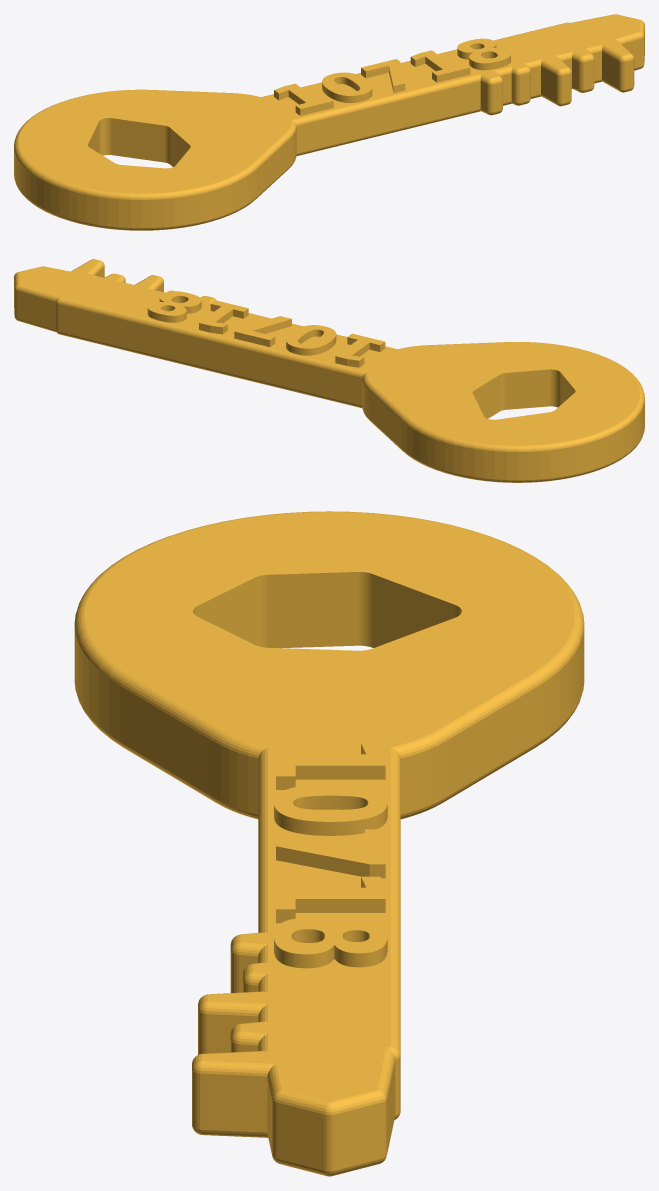
Rendered from 10718-golden-key-v1.glb.
3 views of the same model, one above another, from view 1: azimuth 30°, elevation 25°; view 2: azimuth 150°, elevation 25°; view 3: azimuth 270°, elevation 25° (orthographic). The views are drawn at different scales.
Parts seen in each view (by area): view 1: 10718 Golden Key v1; view 2: 10718 Golden Key v1; view 3: 10718 Golden Key v1.
Boxes of the visible parts, bbox=[...] form: 10718 Golden Key v1: bbox=[14, 14, 644, 230]; 10718 Golden Key v1: bbox=[14, 259, 644, 482]; 10718 Golden Key v1: bbox=[74, 511, 584, 1176].
Size of the model in its own units: 69.4 by 4.75 by 24.99.
